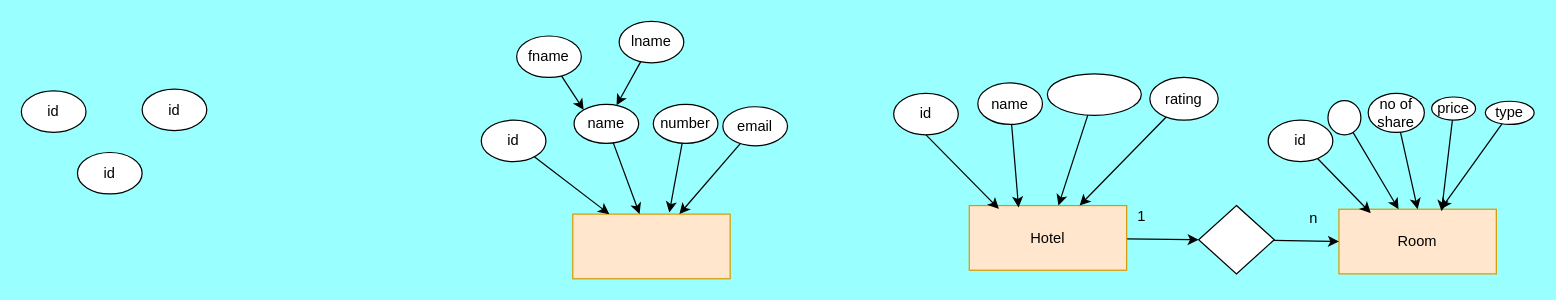
Some shapes in this 1556 by 300 pixel diagram are drawn without their labels. Each missing label, with the centre of its shape:
description: pixel 1093 94
has a: pixel 1235 239
no: pixel 1344 117
User: pixel 651 246
